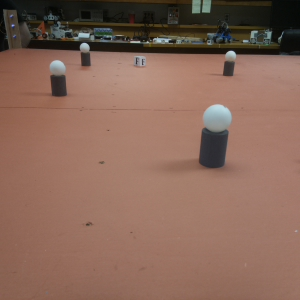blockF: (134, 54, 147, 67)
corner: (4, 9, 20, 49)
obstacle: (199, 102, 232, 169), (48, 60, 67, 96), (221, 49, 237, 78), (80, 43, 91, 66)
